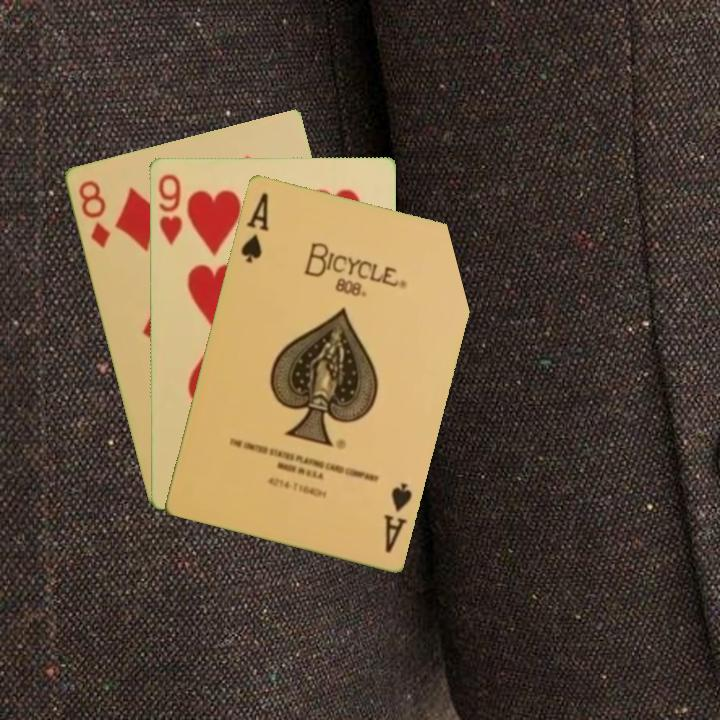8d: (74, 176, 113, 251)
9h: (154, 170, 185, 247)
As: (237, 188, 272, 266), (380, 478, 415, 556)
